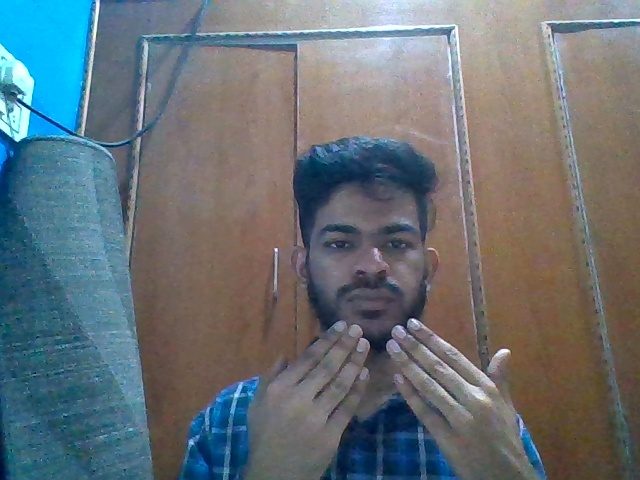thanks: (243, 316, 541, 480)
